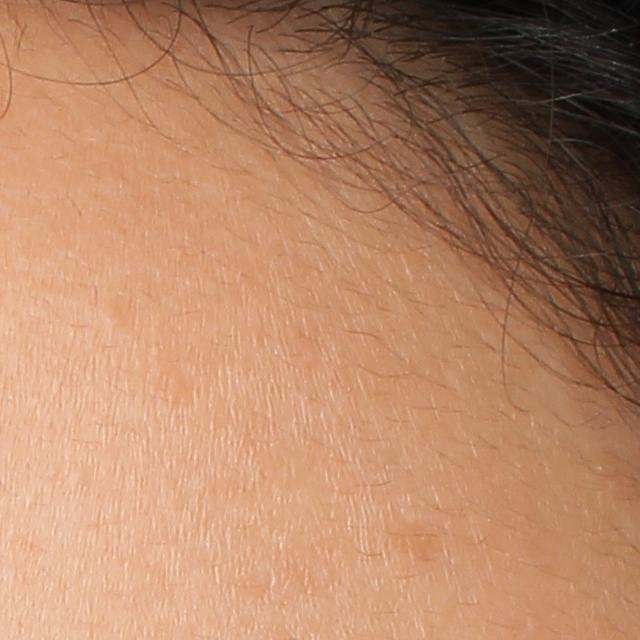comedo: (96, 304, 129, 333)
